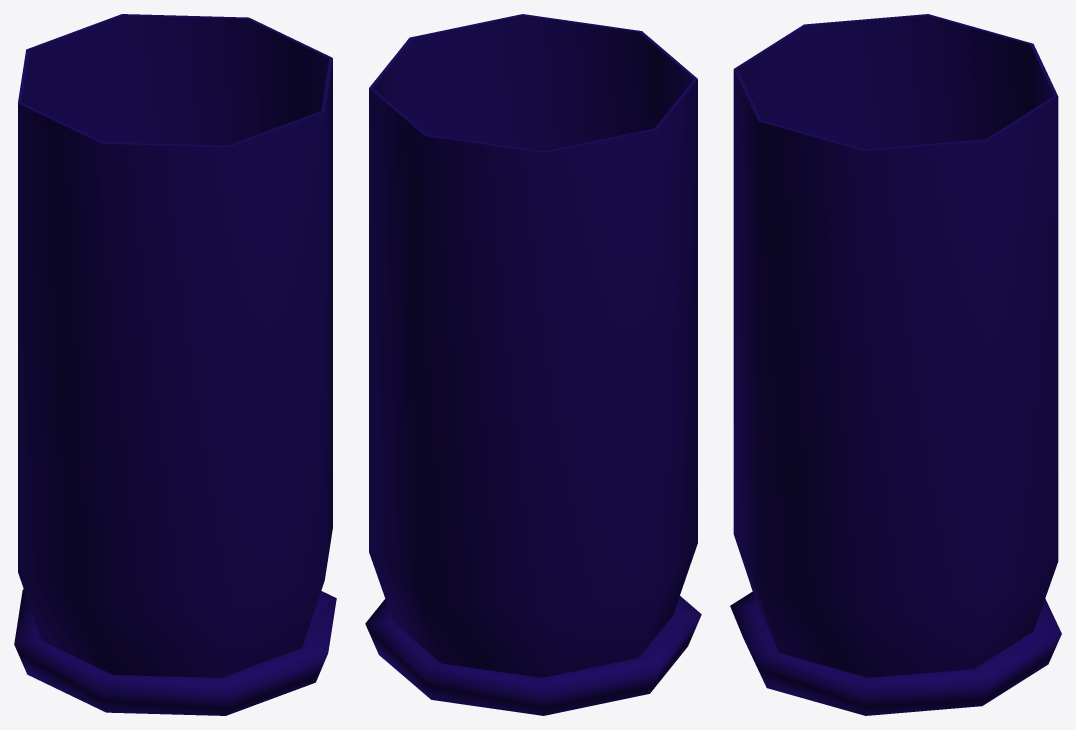
Rendered from Shell_LOD0.FBX.
3 views of the same model, side by side, from view 1: azimuth 30°, elevation 25°; view 2: azimuth 150°, elevation 25°; view 3: azimuth 270°, elevation 25° (orthographic).
Parts seen in each view (by area): view 1: Shell_LOD0; view 2: Shell_LOD0; view 3: Shell_LOD0.
Part boxes in pixels (x1,y1,x2,y2): Shell_LOD0: (14, 14, 336, 715); Shell_LOD0: (365, 14, 701, 715); Shell_LOD0: (730, 14, 1061, 715).
Size of the model in its own units: 1.16 by 2.2 by 1.16.
